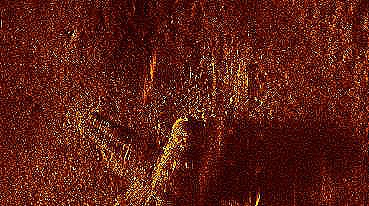aircraft: (66, 106, 263, 205)
